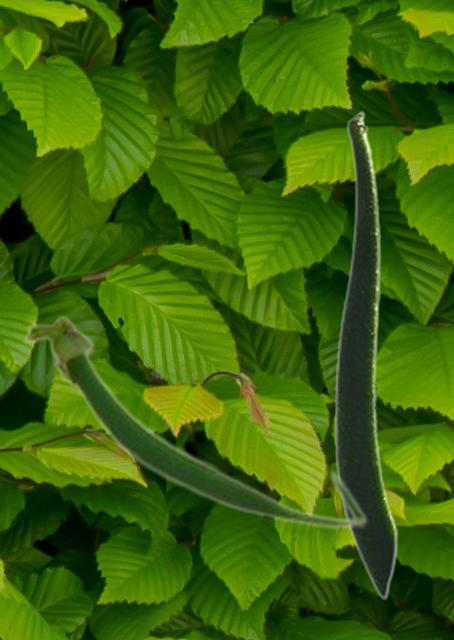french_bean: (21, 312, 368, 530), (333, 110, 398, 600)
